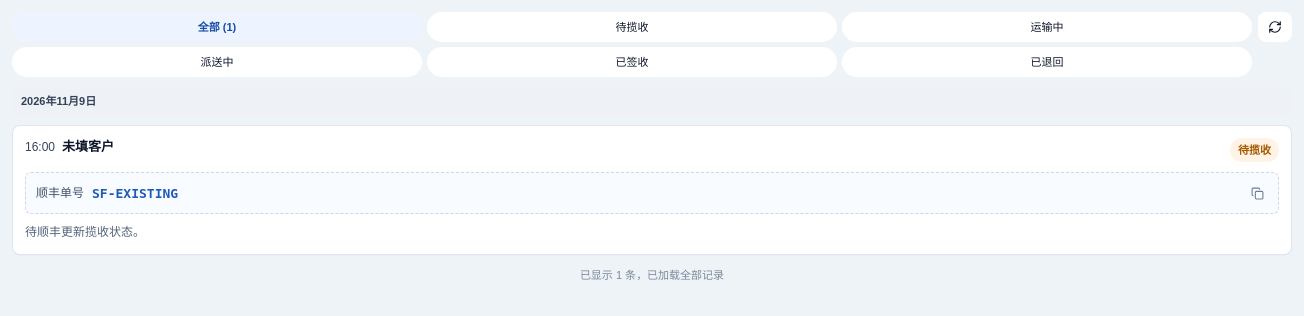
Test: retains loaded owner records when the list has a temporary server error
Expected: the list item with aria-label "提报 EXISTING" is shown, [12,125,1292,255]
Step 1. Click the button named "刷新提报记录" → (1275, 27), box [1258,12,1292,42]
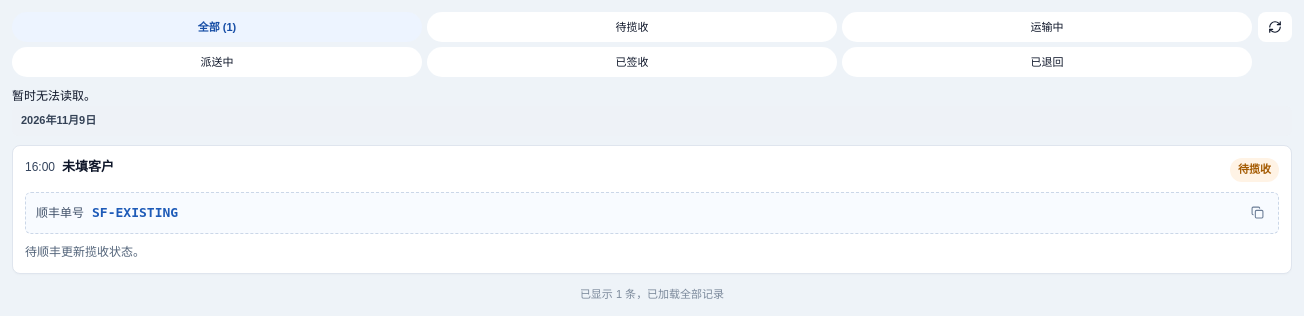
Expected: the list item with aria-label "提报 EXISTING" is shown, [12,145,1292,274]
Now the message shows "暂时无法读取", box [12,89,96,103]
